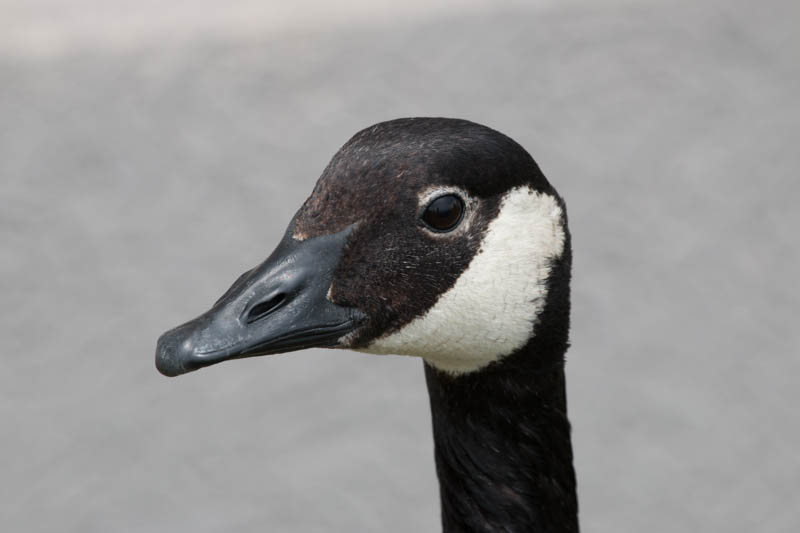goose-head: (154, 114, 572, 377)
